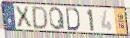1: (86, 8, 95, 32)
4: (100, 9, 113, 33)
D: (65, 7, 81, 32), (32, 6, 48, 30)
Q: (48, 7, 66, 31)
X: (13, 5, 34, 28)
